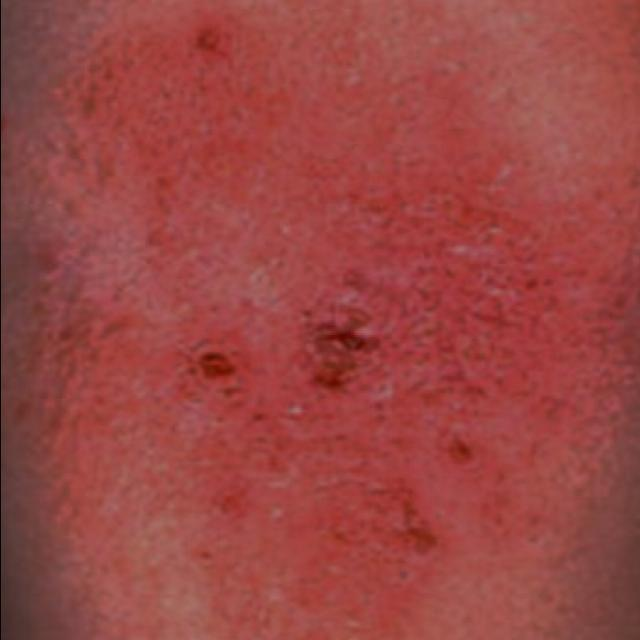AtopicDermatitis: (150, 167, 511, 593), (159, 6, 255, 88)
